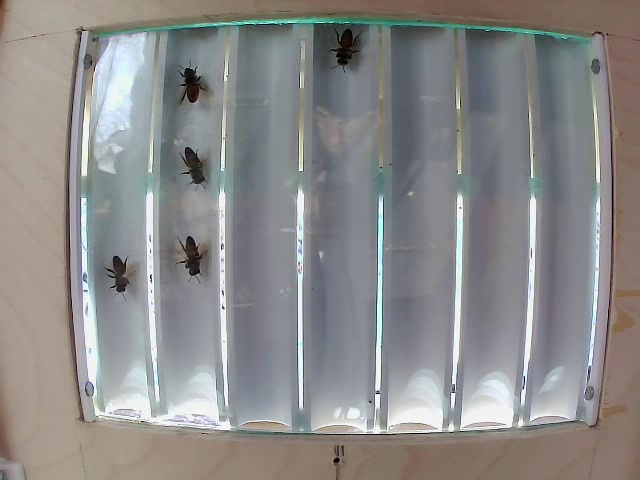bee: (167, 222, 219, 295), (173, 68, 216, 121), (100, 252, 134, 311), (321, 24, 359, 74), (173, 144, 210, 192)
